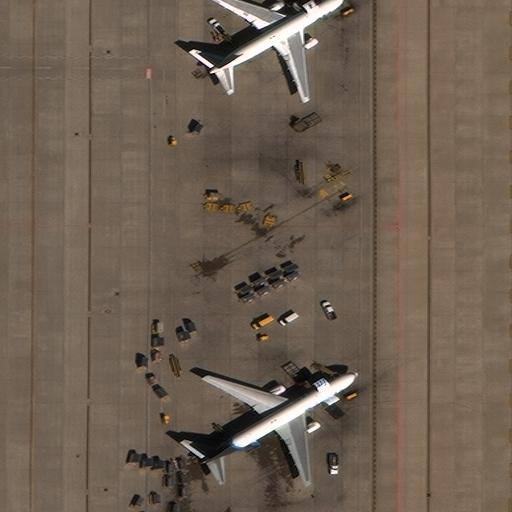Large Civil Transport: (201, 372, 358, 483), (206, 0, 344, 100)
